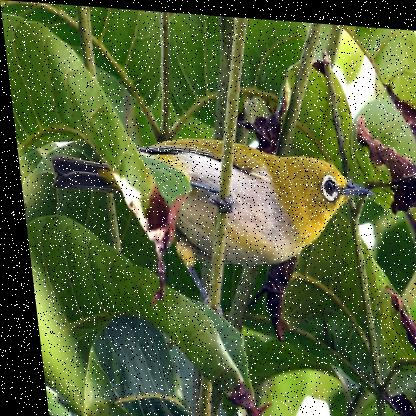Burung: (43, 125, 379, 268)
